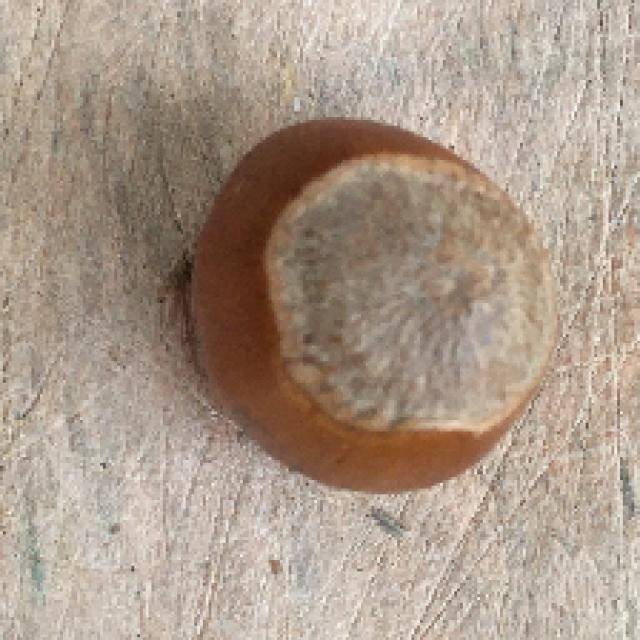qualityHazelnut: (180, 108, 560, 492)
